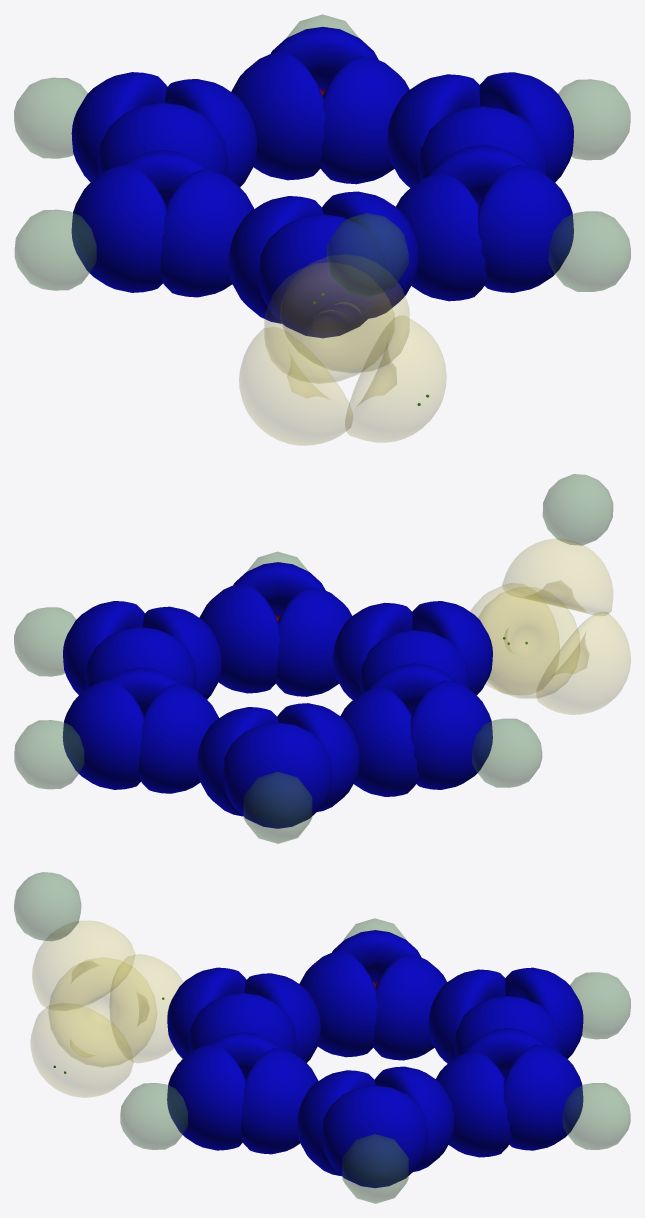
File: Phenol_Orbital_Stucture_Type_02.gltf
3 views of the same model, one above another, from view 1: azimuth 30°, elevation 25°; view 2: azimuth 150°, elevation 25°; view 3: azimuth 270°, elevation 25° (orthographic). The views are drawn at different scales.
Parts seen in each view (by area): view 1: Orbital047, P_Orbital_04, P_Orbital_02, Orbital53, Orbital045, P_Orbital_01, P_Orbital_03, Orbital046, Orbital52, Orbital60, Orbital59, Orbital048 (+16 smaller); view 2: Orbital043, P_Orbital_03, Orbital045, P_Orbital_04, Orbital57, P_Orbital_01, Orbital52, Orbital56, P_Orbital_02, Orbital59, Orbital050, Orbital58 (+15 smaller); view 3: Orbital55, P_Orbital_01, P_Orbital_03, P_Orbital_02, Orbital57, Orbital53, P_Orbital_04, Orbital046, Orbital56, Orbital050, Orbital60, Orbital049 (+16 smaller).
Part boxes in pixels (x1,y1,x2,y2): Orbital047: (258,214,386,338); P_Orbital_04: (264,263,394,383); P_Orbital_02: (280,257,409,372); Orbital53: (478,164,573,292); Orbital045: (71,164,165,292); P_Orbital_01: (239,327,352,445); P_Orbital_03: (345,316,446,442); Orbital046: (160,169,254,297); Orbital52: (231,52,325,180); Orbital60: (320,56,409,184); Orbital59: (396,173,487,301); Orbital048: (97,102,227,175); Orbital043: (222,722,332,828); P_Orbital_03: (478,587,579,698); Orbital045: (410,680,492,789); P_Orbital_04: (470,583,559,694); Orbital57: (62,680,143,789); P_Orbital_01: (536,612,630,714); Orbital52: (138,684,218,793); Orbital56: (199,583,280,693); P_Orbital_02: (502,539,612,615); Orbital59: (275,587,351,696); Orbital050: (340,687,418,796); Orbital58: (84,627,196,689); Orbital55: (321,1085,428,1187); P_Orbital_01: (49,958,156,1066); P_Orbital_03: (30,1003,133,1097); P_Orbital_02: (32,921,135,1010); Orbital57: (503,1044,583,1150); Orbital53: (167,1044,245,1150); P_Orbital_04: (109,954,182,1062); Orbital046: (299,951,377,1057); Orbital56: (240,1048,318,1154); Orbital050: (372,954,446,1060); Orbital60: (436,1051,511,1157); Orbital049: (188,993,296,1053).
Size of the model in its own units: 1.13 by 0.4352 by 1.2.
Materials: 5 (2 with a texture image).
